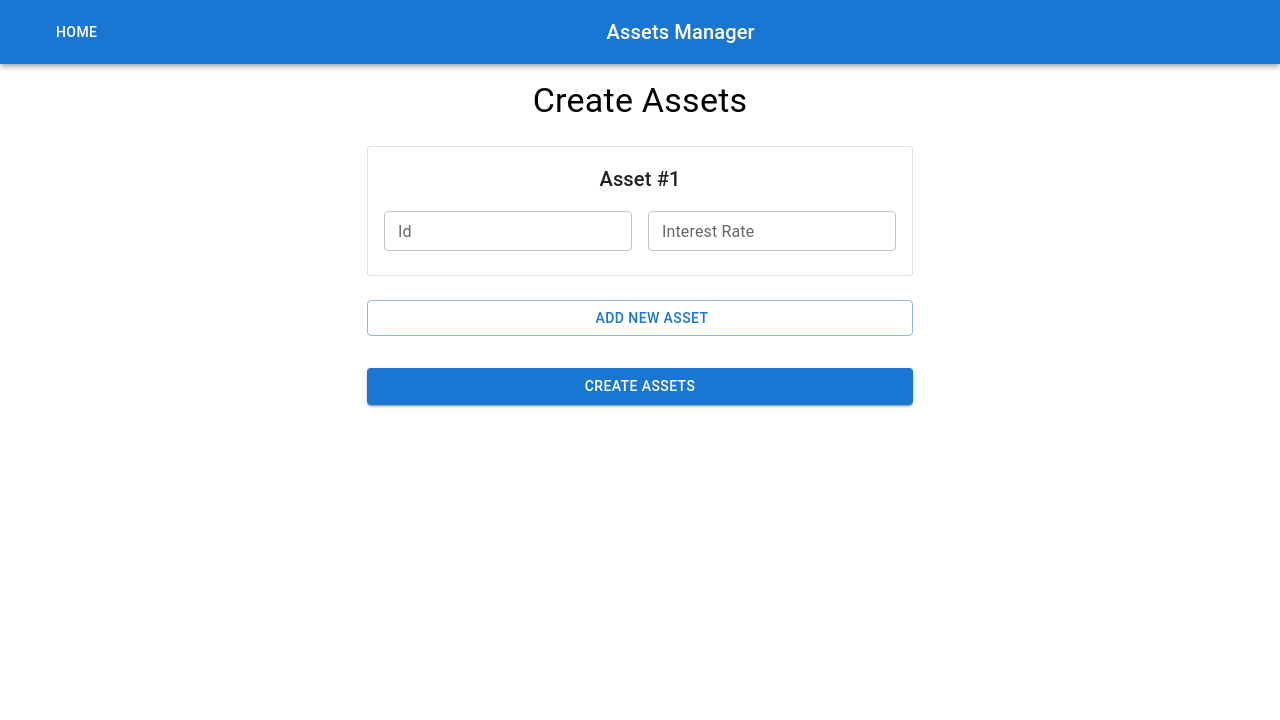
Create Assets › should add a new asset form when clicking "Add New Asset"
Step 1. Click the button "Add New Asset" → (640, 319), box [367,300,913,337]
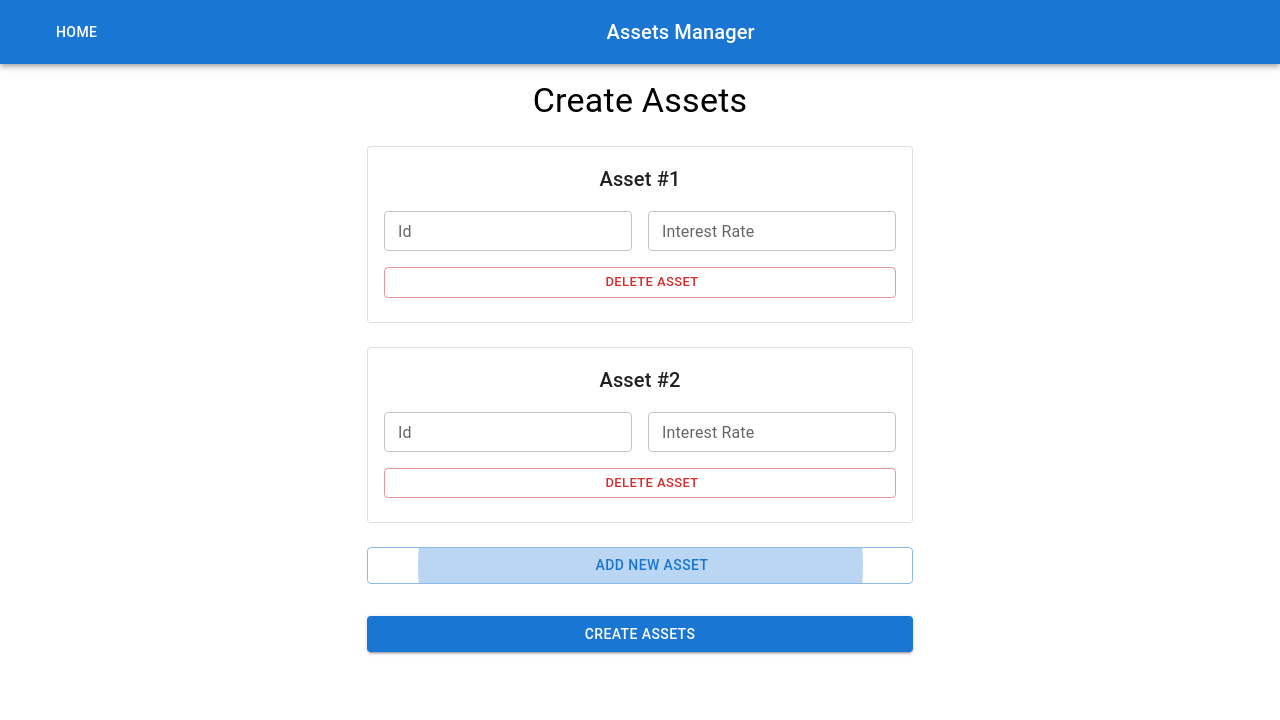
Expected: the heading "Asset #1" is shown, [599,167,680,191]
Now the heading "Asset #2" is shown, box [599,368,680,392]
Now the field named "assets.1.id" is shown, box [384,412,632,452]
